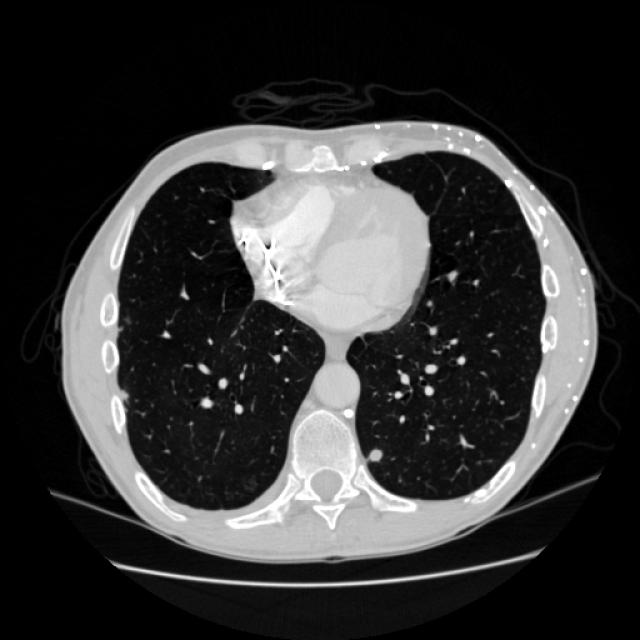nodule: (358, 439, 390, 471)
